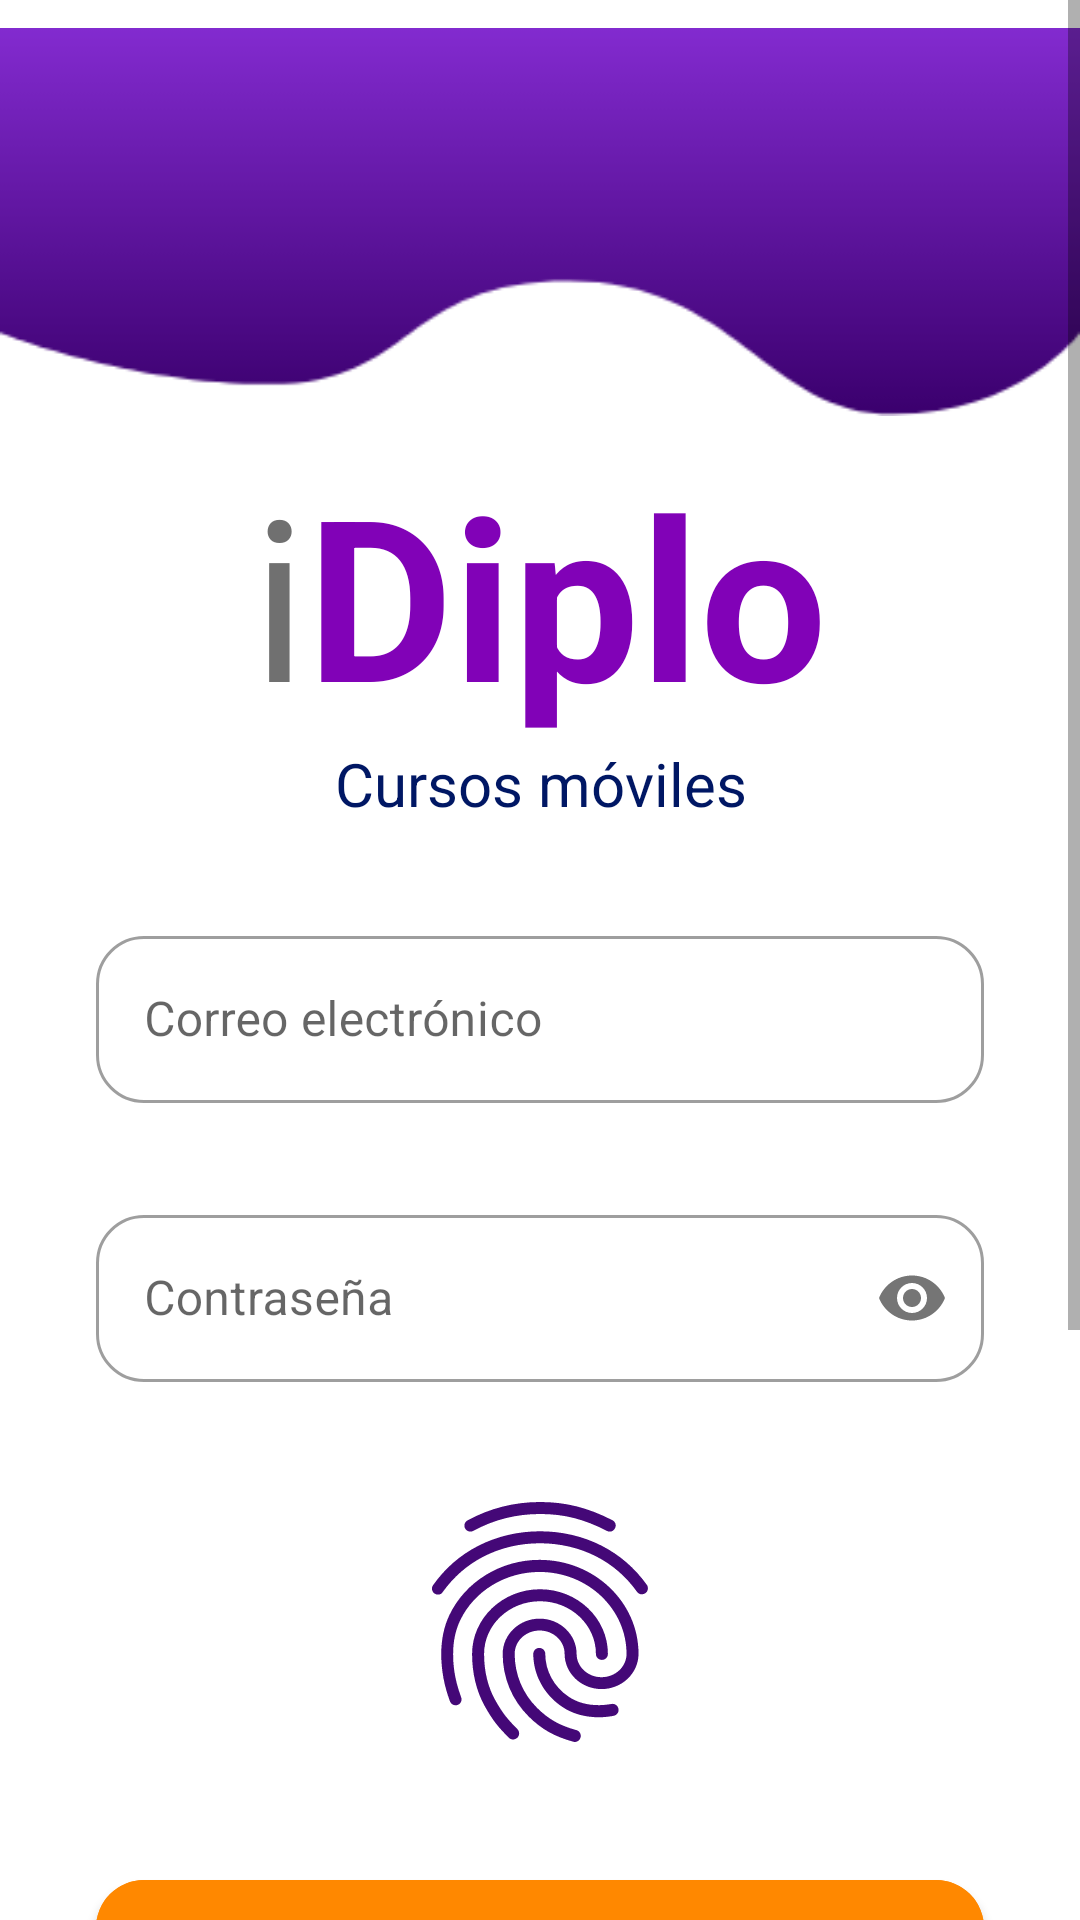

Where icons sit on this 1080w x 1920h app screen, as {"left": x1, "top": y1, "right": x2, "bottom": y2}:
fingerprint: {"left": 432, "top": 1502, "right": 648, "bottom": 1742}
